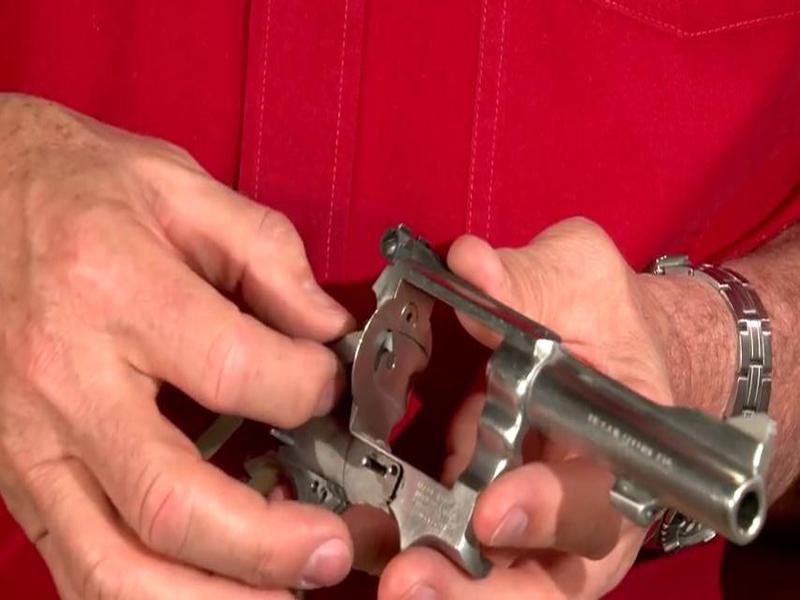Revolver: (241, 190, 793, 600)
